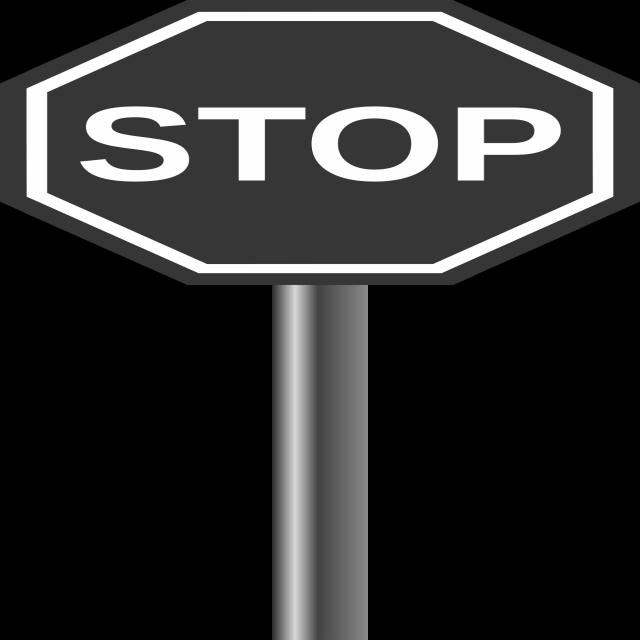stop: (0, 0, 640, 289)
